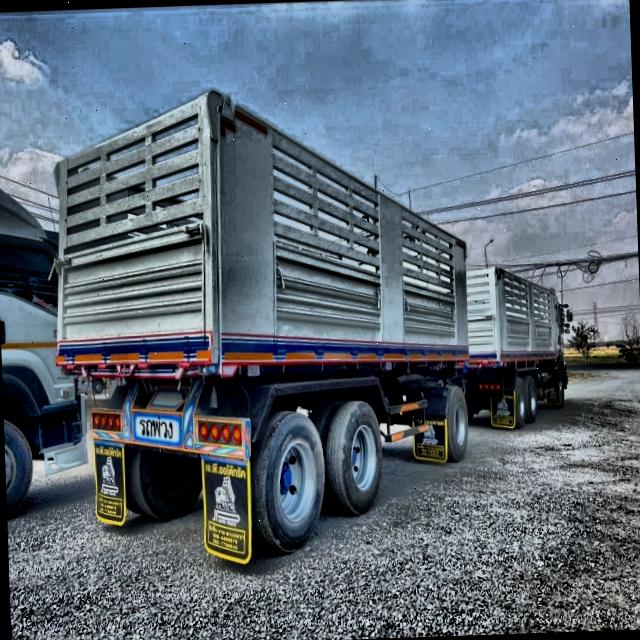trailer: (33, 59, 580, 574)
